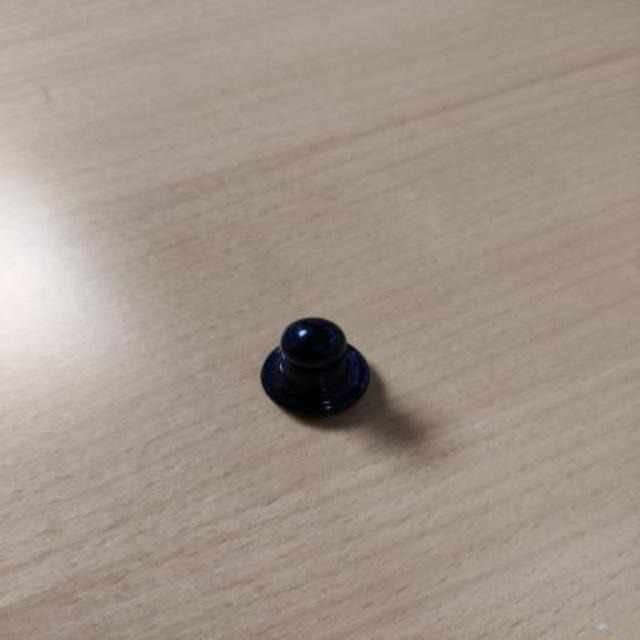black-pawn: (261, 316, 371, 417)
